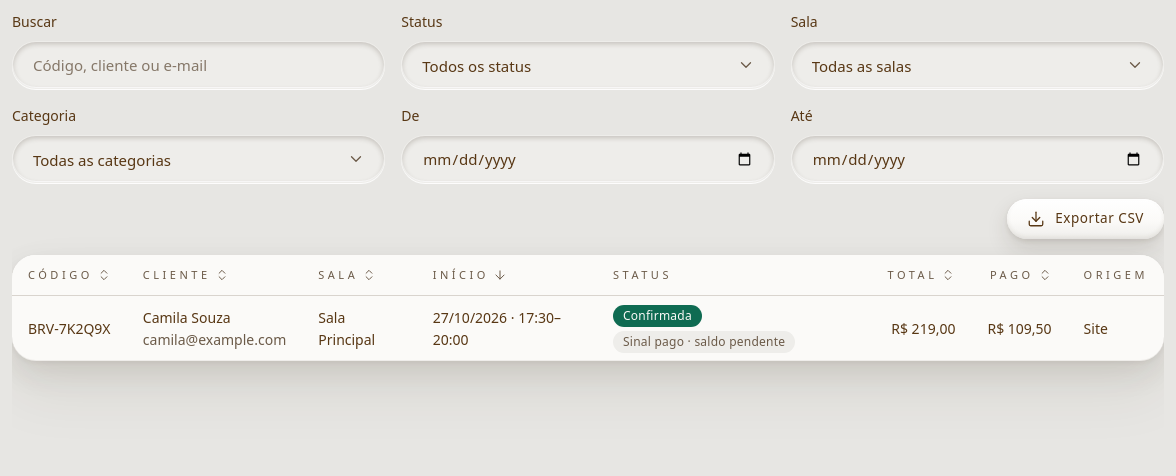
Test case: BookingsListPage pagination and export (NUC-179) › "Exportar CSV" › shows the API refusal when the export is too large
Expected: the text "BRV-7K2Q9X" is shown, left=12, top=296, right=127, bottom=361
Click the button "Exportar CSV".
click(1086, 219)  # box left=1007, top=199, right=1164, bottom=239
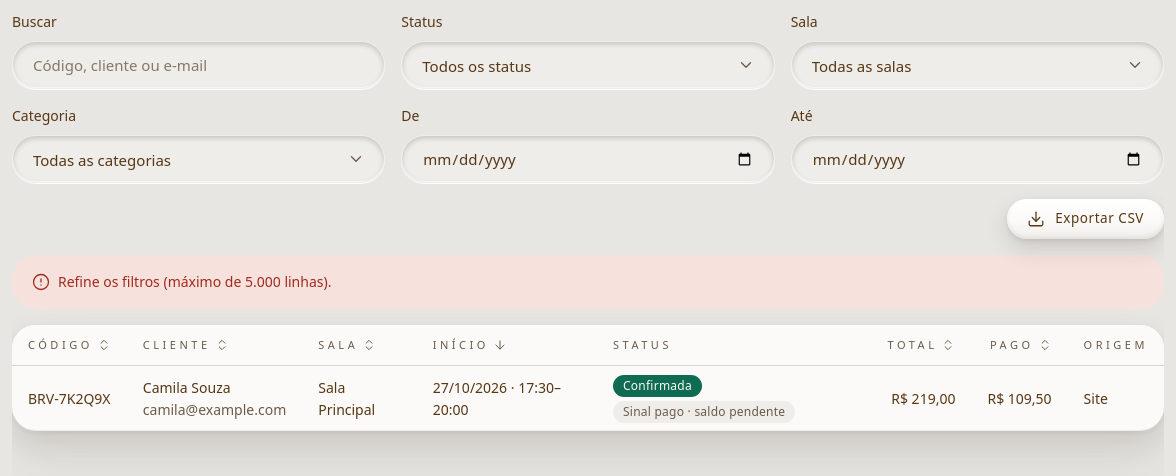
Now the text "Refine os filtros (máximo de 5.000 linhas)." is shown, box left=58, top=272, right=331, bottom=291
